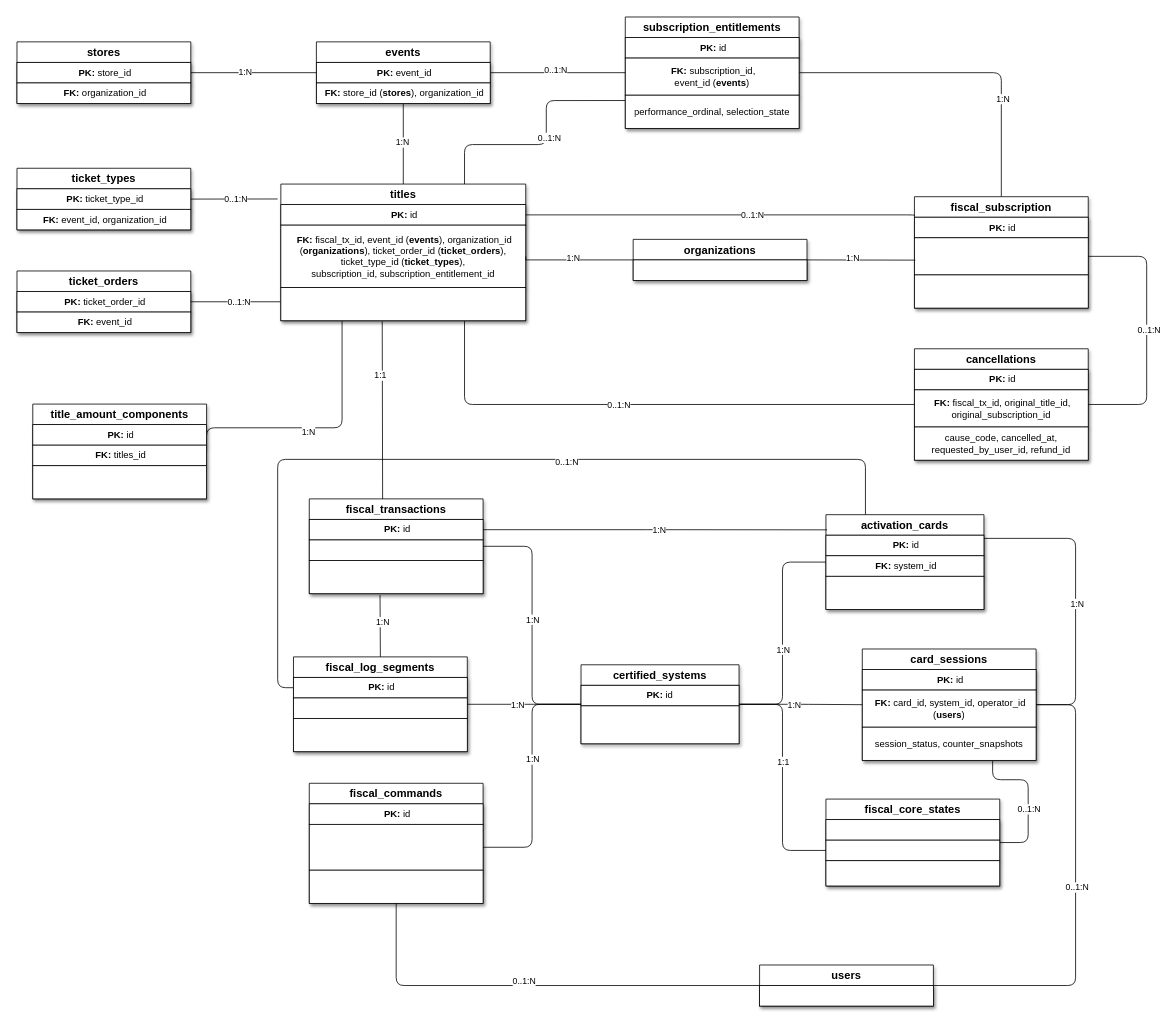
This 1174x1025 diagram has some shape labels left out. The centre of each missing label's shape, as x and y in pixels:
"card_code, status, expires_at, last_counter_seen" belongs at point 905,593.
"component_type, nature, quantity, amount_cents" belongs at point 120,483.
"fiscal_date, segment_number. state first/last_record_digest" belongs at point 381,736.
"FK: active_card_sessions" belongs at point 913,851.
"FK: fiscal_tx_id, organization_id ( organizations )" belongs at point 1001,257.
"FK: system_id, log_segment_id" belongs at point 396,551.
"FK: system_id, requested_by ( users ), result_fiscal_tx_id" belongs at point 396,848.
"FK: system_id, signer_card_id" belongs at point 381,709.
"idempotency_key, command_type, status" belongs at point 396,887.
"PK: organization_id" belongs at point 720,271.
"PK: system_id" belongs at point 913,831.
"PK: user_id" belongs at point 847,997.
"state, reason_code, version" belongs at point 913,874.
"subscription_kind, turn_type, enabled_event_count" belongs at point 1001,292.
"system_kind, siae_system_code, status, timezone" belongs at point 660,725.
"title_type_code, digital, issued_at" belongs at point 403,305.
"transaction_type, card_progressive, seal, record_digest, previous_rec_dig" belongs at point 396,578.
